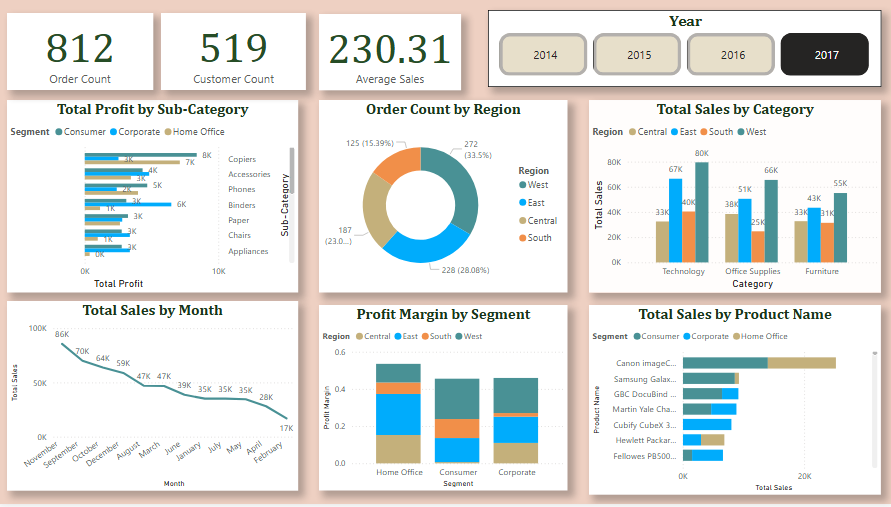

What the dashboard file says about the page in this screenshot:
{"tool":"powerbi","page":{"name":"Page 1","canvas":[1280,720],"ordinal":0},"visuals":[{"type":"clusteredColumnChart","title":"Total Sales by Category ","fields":{"Category":["Sample - Superstore.Category"],"Y":["Sample - Superstore.Total Sales"],"Series":["Sample - Superstore.Region"]},"box":[844.9,143.5,417.4,275.4],"z":0},{"type":"clusteredBarChart","title":"Total Profit by Sub-Category ","fields":{"Category":["Sample - Superstore.Sub-Category"],"Y":["Sample - Superstore.Total Profit"],"Series":["Sample - Superstore.Segment"]},"box":[13,143.5,415.9,275.4],"z":1000},{"type":"lineChart","fields":{"Category":["Sample - Superstore.Month"],"Y":["Sample - Superstore.Total Sales"]},"box":[13,430.4,415.9,271],"z":2000},{"type":"barChart","title":"Total Sales by Product Name","fields":{"Y":["Sample - Superstore.Total Sales"],"Category":["Sample - Superstore.Product Name"],"Series":["Sample - Superstore.Segment"]},"box":[844.9,436.2,417.4,271],"z":3000},{"type":"card","fields":{"Values":["Sample - Superstore.Order Count"]},"box":[13,18.8,208.7,110.1],"z":4000},{"type":"advancedSlicerVisual","fields":{"Values":["Sample - Superstore.Year"]},"box":[700,14.5,562.3,110.1],"z":5000},{"type":"card","fields":{"Values":["Sample - Superstore.Average Sales"]},"box":[458,20.3,202.9,108.7],"z":6000},{"type":"card","fields":{"Values":["Sample - Superstore.Customer Count"]},"box":[233.3,18.8,207.2,110.1],"z":7000},{"type":"donutChart","fields":{"Y":["Sample - Superstore.Order Count"],"Category":["Sample - Superstore.Region"]},"box":[458,143.5,355.1,275.4],"z":8000},{"type":"columnChart","title":"Profit Margin by Segment","fields":{"Category":["Sample - Superstore.Segment"],"Y":["Sample - Superstore.Profit Margin"],"Series":["Sample - Superstore.Region"]},"box":[458,436.2,355.1,265.2],"z":9000}]}

Visuals, with their boxes in screenshot pixels (x1, y1, x2, y2), scaled from the page's 1280x720 canvas onto the 891x507 screenshot:
"Total Sales by Category " clusteredColumnChart: pyautogui.locateOnScreen(588, 101, 879, 295)
"Total Profit by Sub-Category " clusteredBarChart: pyautogui.locateOnScreen(9, 101, 299, 295)
lineChart - Sample - Superstore.Month x Sample - Superstore.Total Sales: pyautogui.locateOnScreen(9, 303, 299, 494)
"Total Sales by Product Name" barChart: pyautogui.locateOnScreen(588, 307, 879, 498)
card - Sample - Superstore.Order Count: pyautogui.locateOnScreen(9, 13, 154, 91)
advancedSlicerVisual - Sample - Superstore.Year: pyautogui.locateOnScreen(487, 10, 879, 88)
card - Sample - Superstore.Average Sales: pyautogui.locateOnScreen(319, 14, 460, 91)
card - Sample - Superstore.Customer Count: pyautogui.locateOnScreen(162, 13, 307, 91)
donutChart - Sample - Superstore.Order Count x Sample - Superstore.Region: pyautogui.locateOnScreen(319, 101, 566, 295)
"Profit Margin by Segment" columnChart: pyautogui.locateOnScreen(319, 307, 566, 494)
